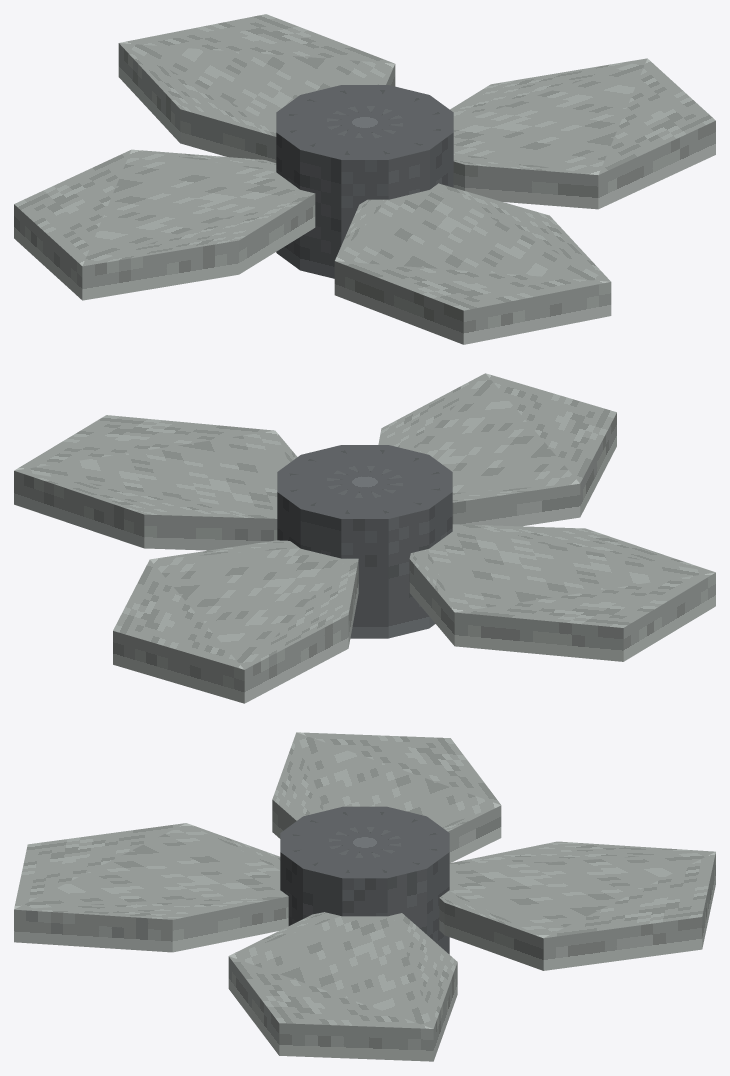
The model's file is fanblade_metal.glb.
3 renders of one model, top to bottom at view 1: azimuth 30°, elevation 25°; view 2: azimuth 150°, elevation 25°; view 3: azimuth 270°, elevation 25°, orthographic. The views are drawn at different scales.
Visible parts, largest first — view 1: block_pressed fan blade (×4), block_drive hub; view 2: block_pressed fan blade (×4), block_drive hub; view 3: block_pressed fan blade (×4), block_drive hub.
Boxes of the visible parts, x1=… form: block_pressed fan blade (×4): x1=14, y1=14, x2=715, y2=344; block_drive hub: x1=276, y1=85, x2=453, y2=278; block_pressed fan blade (×4): x1=14, y1=373, x2=715, y2=703; block_drive hub: x1=277, y1=445, x2=452, y2=638; block_pressed fan blade (×4): x1=14, y1=732, x2=715, y2=1061; block_drive hub: x1=280, y1=806, x2=449, y2=954.
Bounding box in the file's own units: 0.3 × 0.0543 × 0.3.
Materials: 1 (1 with a texture image).
